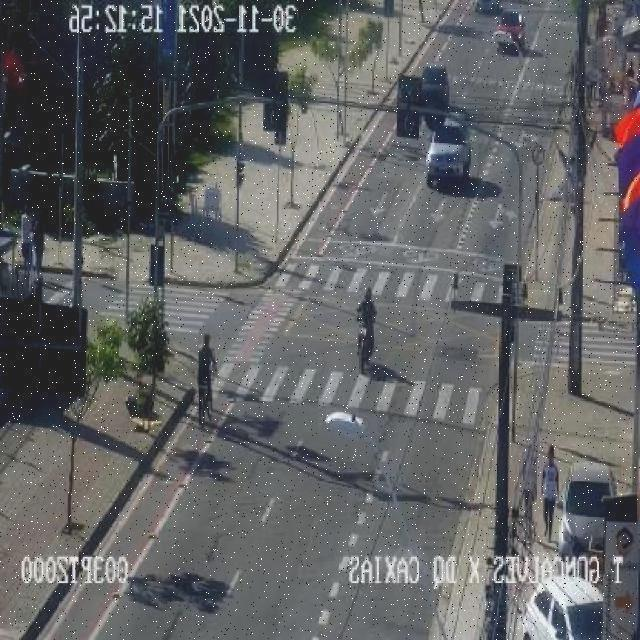Car: (414, 116, 482, 195), (407, 63, 462, 116), (486, 10, 532, 64)
Cycle: (329, 284, 408, 389)
